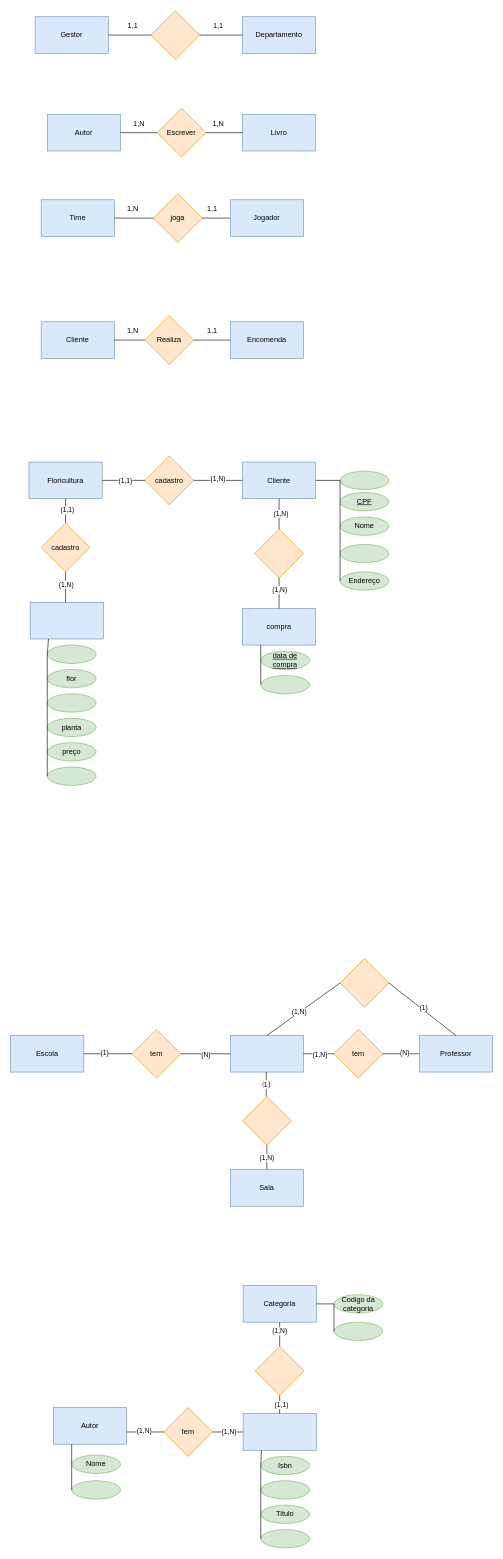
Some shapes in this 503 by 1559 pixel diagram are drawn without their labels. Here are the shapes that lost their labels. From the top down, the box of each, then its label:
(150, 10, 200, 59): Gerencia
(339, 471, 389, 490): RG
(254, 529, 303, 578): armazenar
(339, 544, 389, 563): Telefone
(30, 602, 103, 639): Produto
(47, 644, 96, 663): nome do produto
(47, 693, 96, 712): vaso
(260, 675, 310, 694): valor de compra
(47, 766, 96, 785): quantidade em estoque
(339, 958, 389, 1007): ministrar aulas
(230, 1035, 303, 1072): Turma
(242, 1096, 291, 1145): aulas
(333, 1322, 383, 1340): Descrição
(255, 1346, 304, 1395): pertence
(242, 1413, 316, 1450): Livros
(71, 1480, 120, 1499): Nacionalidade
(260, 1480, 310, 1499): Ano editora
(260, 1529, 310, 1548): Autores do Livro
